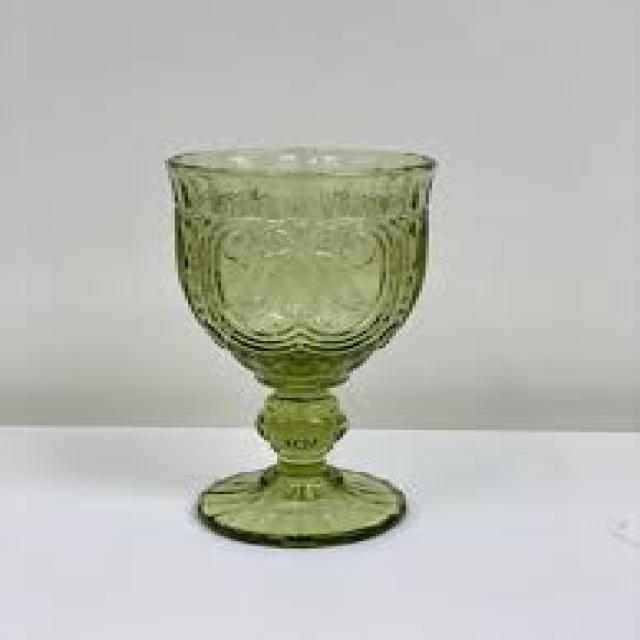glass: (162, 143, 432, 546)
